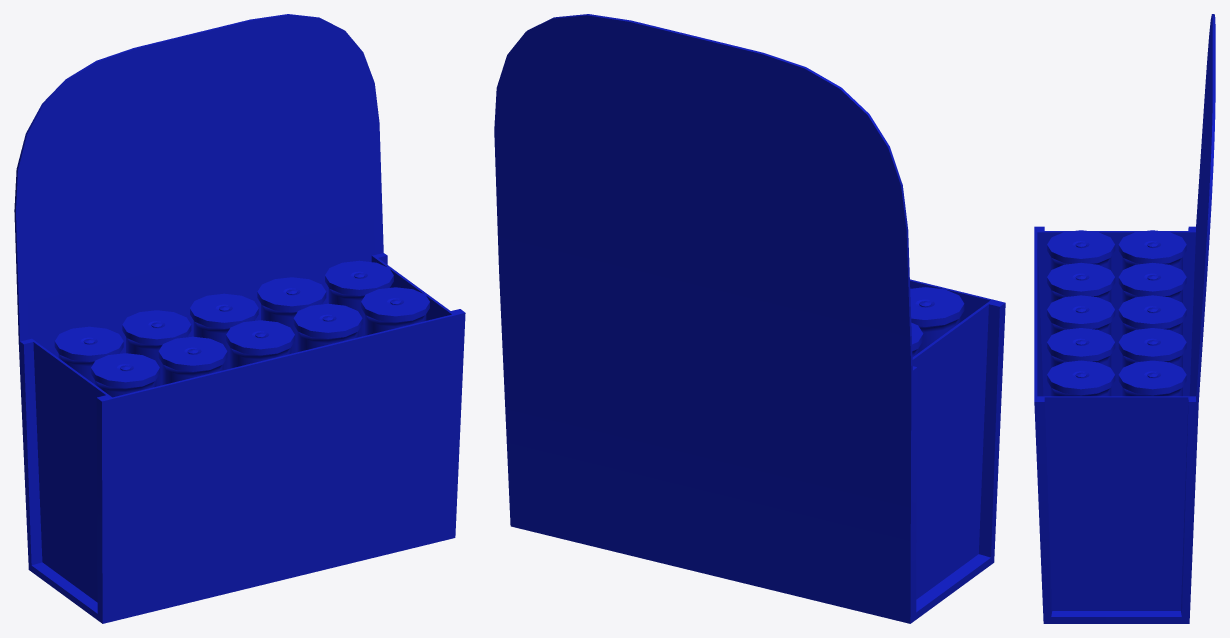
File: amma_bag.fbx
3 views of the same model, side by side, from view 1: azimuth 30°, elevation 25°; view 2: azimuth 150°, elevation 25°; view 3: azimuth 270°, elevation 25° (orthographic). The views are drawn at different scales.
Visible parts, largest first — view 1: amma_bag; view 2: amma_bag; view 3: amma_bag.
Boxes of the visible parts, x1,y1,x2,y2 form: amma_bag: (14, 14, 465, 623); amma_bag: (494, 14, 1005, 623); amma_bag: (1034, 14, 1215, 623).
Size of the model in its own units: 2076 by 2637 by 907.
